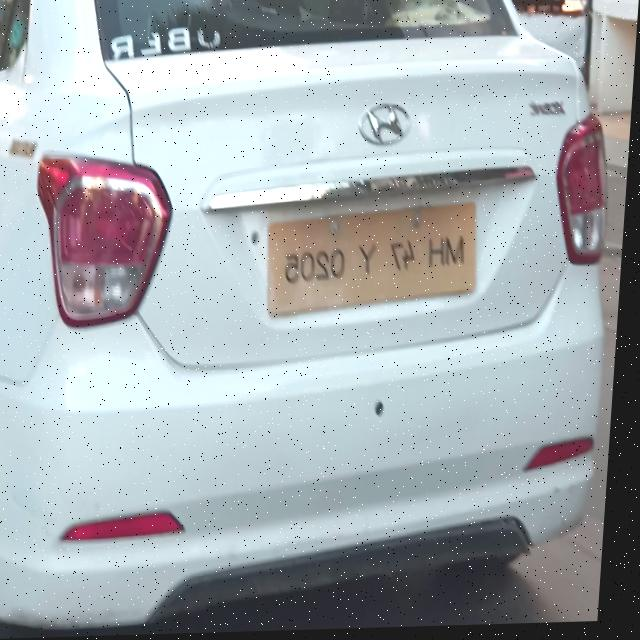plate: (267, 203, 486, 319)
